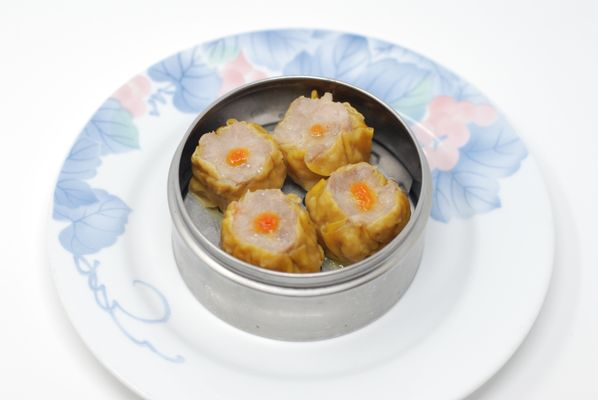pasta: (305, 162, 411, 263), (272, 94, 375, 185)
sushi: (166, 73, 436, 296)
